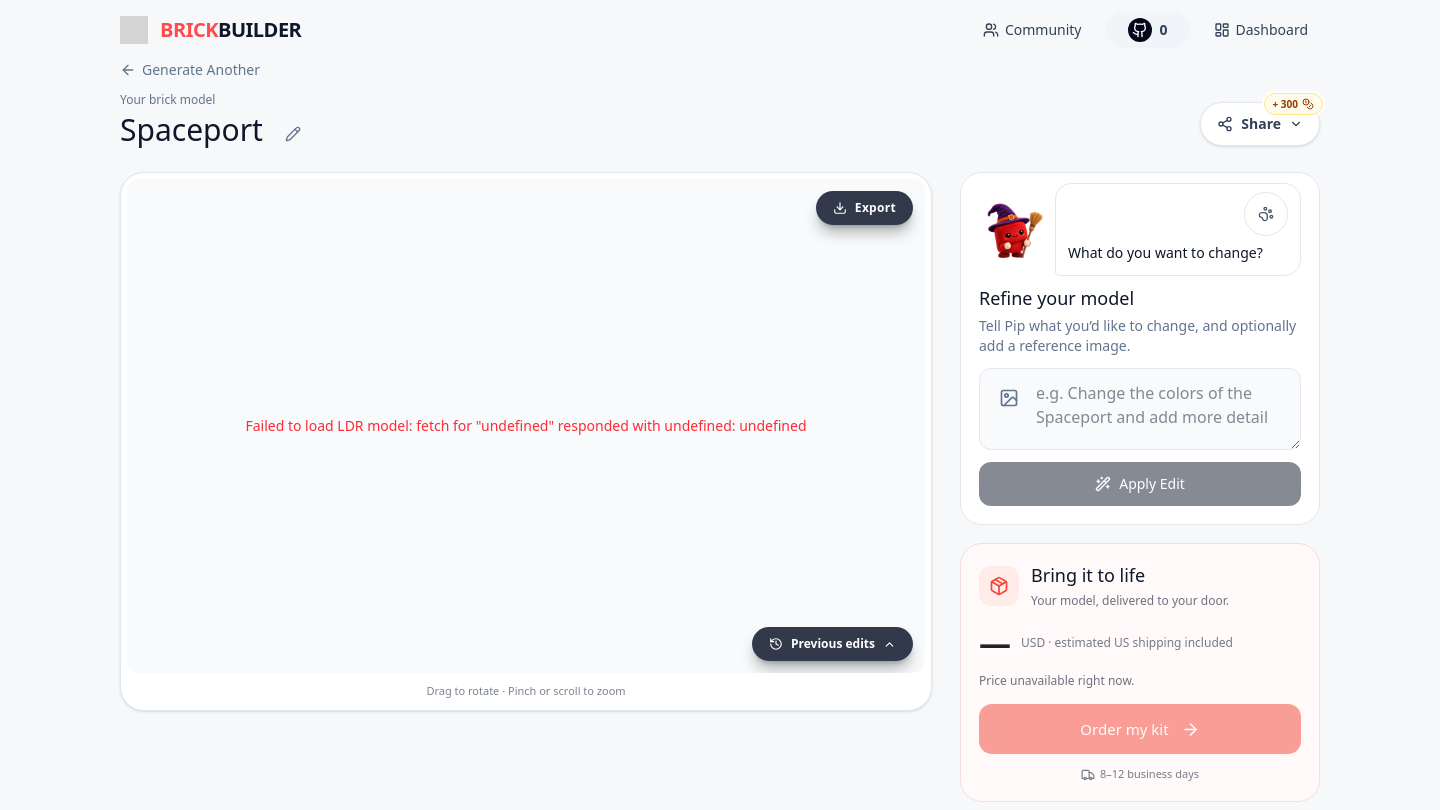
it: shows an owner permission error when the agent source cannot be downloaded
Click the button with aria-label "Export model".
click(864, 208)  # box [816, 191, 913, 225]
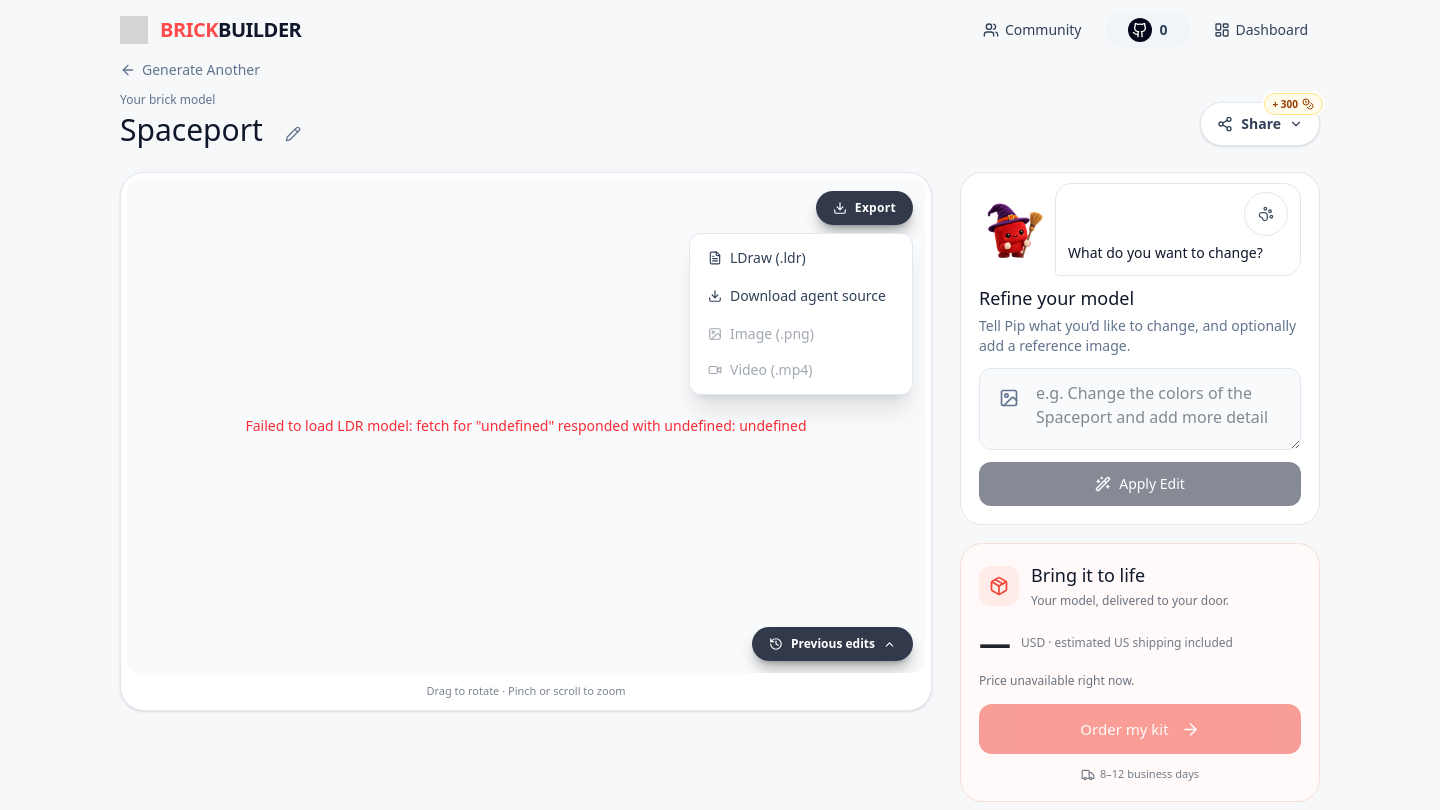
Click the button "Download agent source".
click(801, 296)  # box [696, 276, 906, 316]
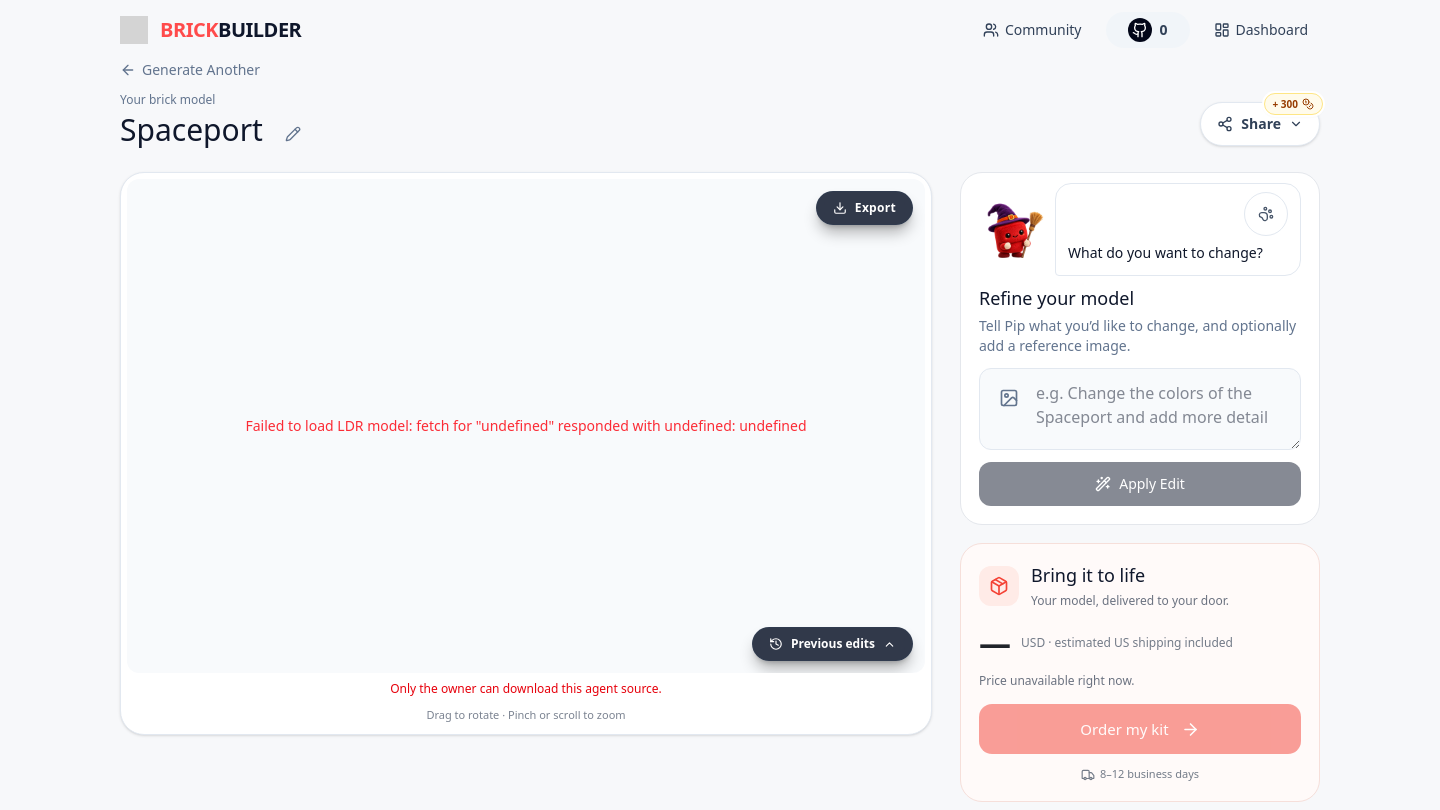
Now the text "Only the owner can download this agent source." is shown, box [390, 680, 662, 697]
